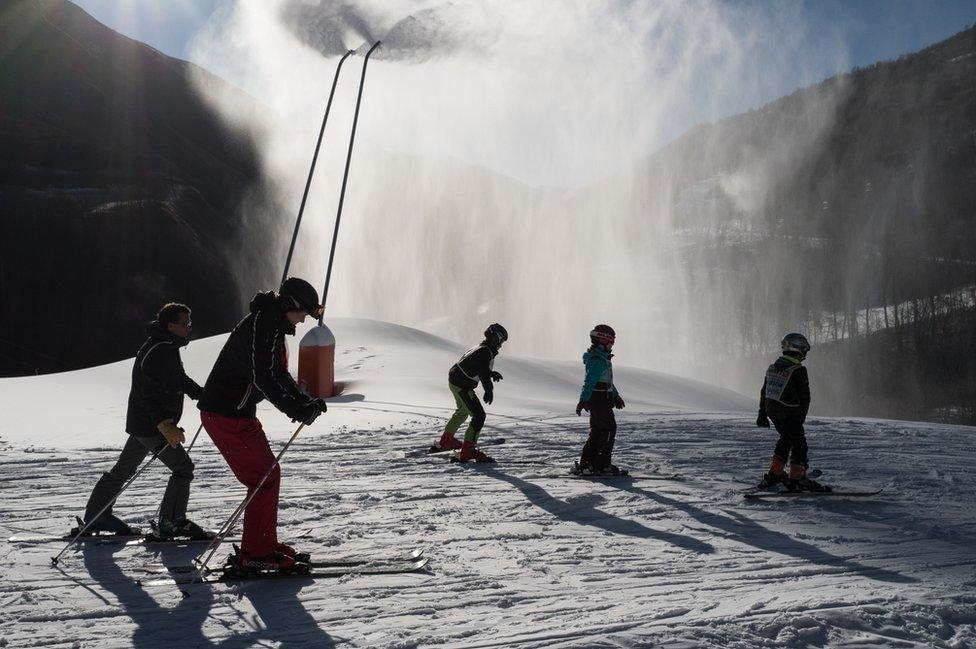skier: (124, 267, 433, 579), (2, 299, 265, 571), (727, 330, 889, 502), (532, 323, 685, 480), (407, 324, 551, 465)
